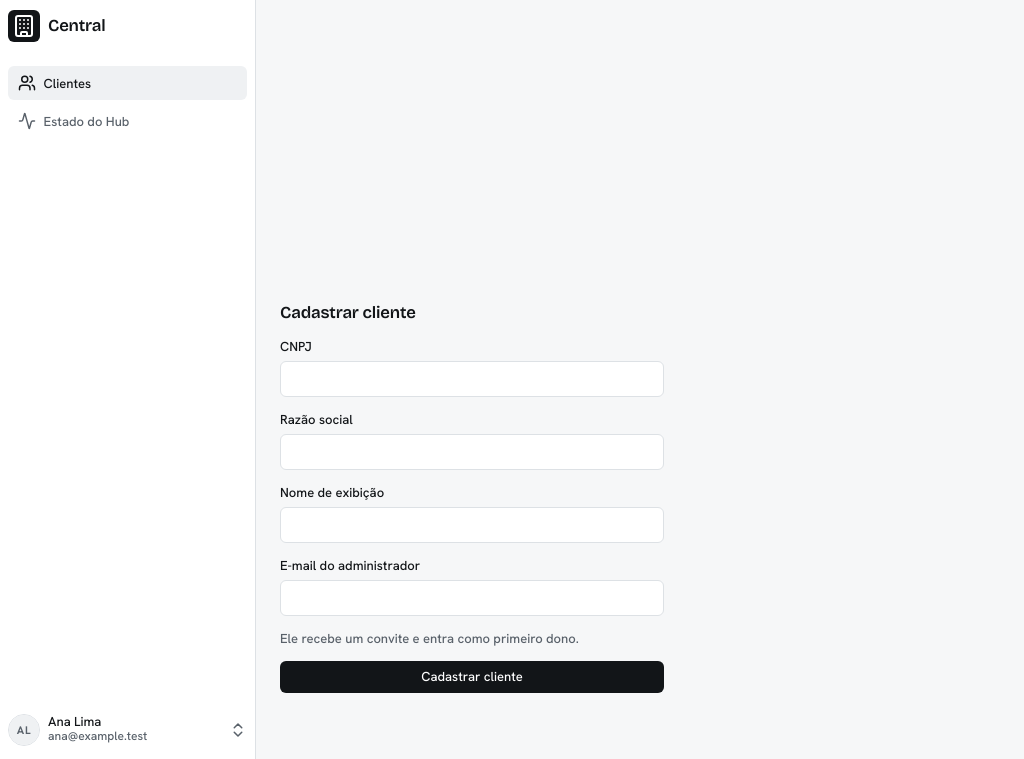
Test: 201: abre o cliente, com o CNPJ sem máscara em maiúsculas e uma chave de tentativa
(page scrolled)
Expected: the text "Ele recebe um convite e entra como primeiro dono." is shown, [280,630,579,647]
Type "12.abc.345/01de-35" into the field labelled "CNPJ" at (472, 379), box [280,361,664,397]
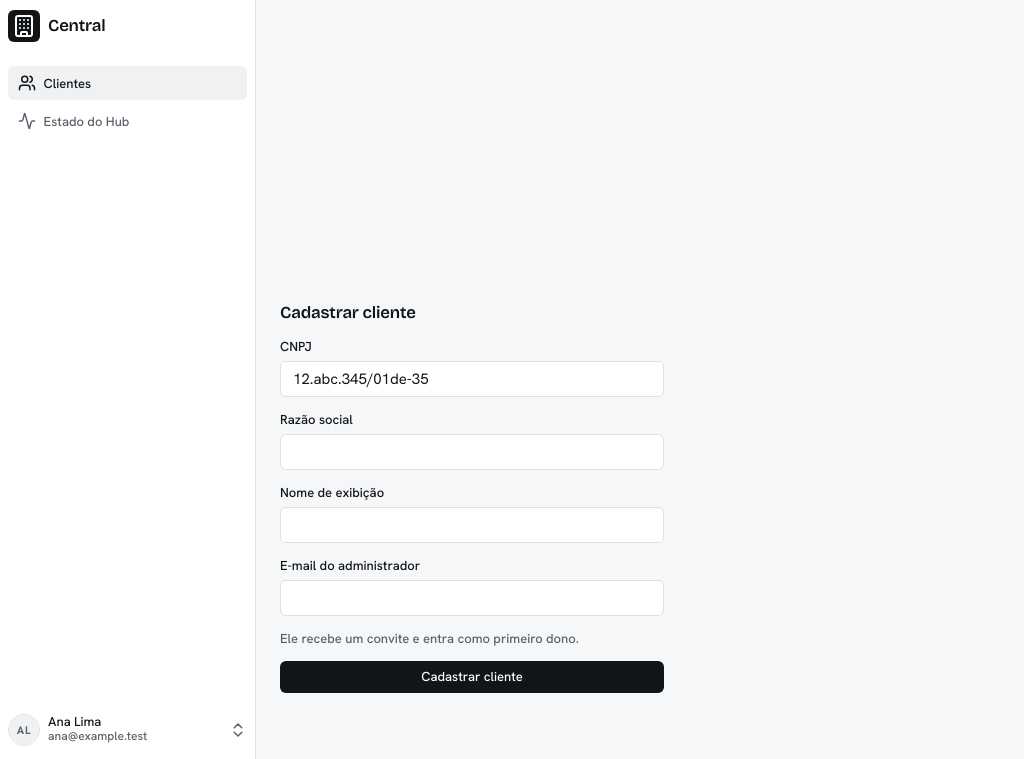
Type "Empresa Teste Ltda" into the field labelled "Razão social" at (472, 452), box [280,434,664,470]
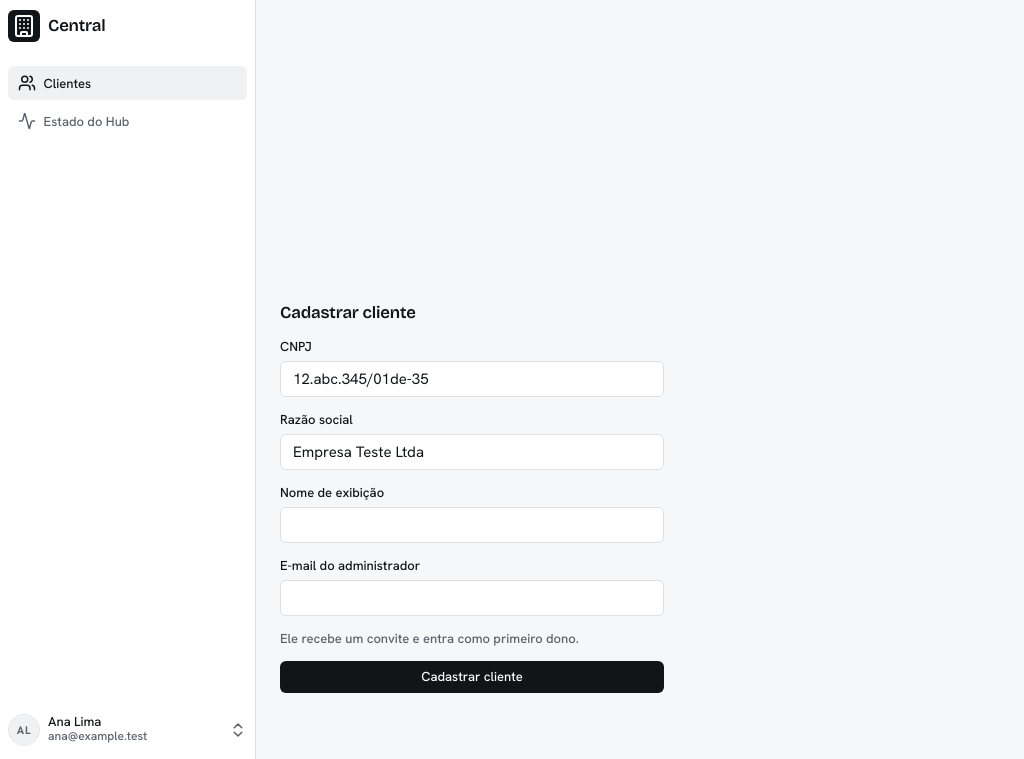
Type "Empresa Teste" into the field labelled "Nome de exibição" at (472, 525), box [280,507,664,543]
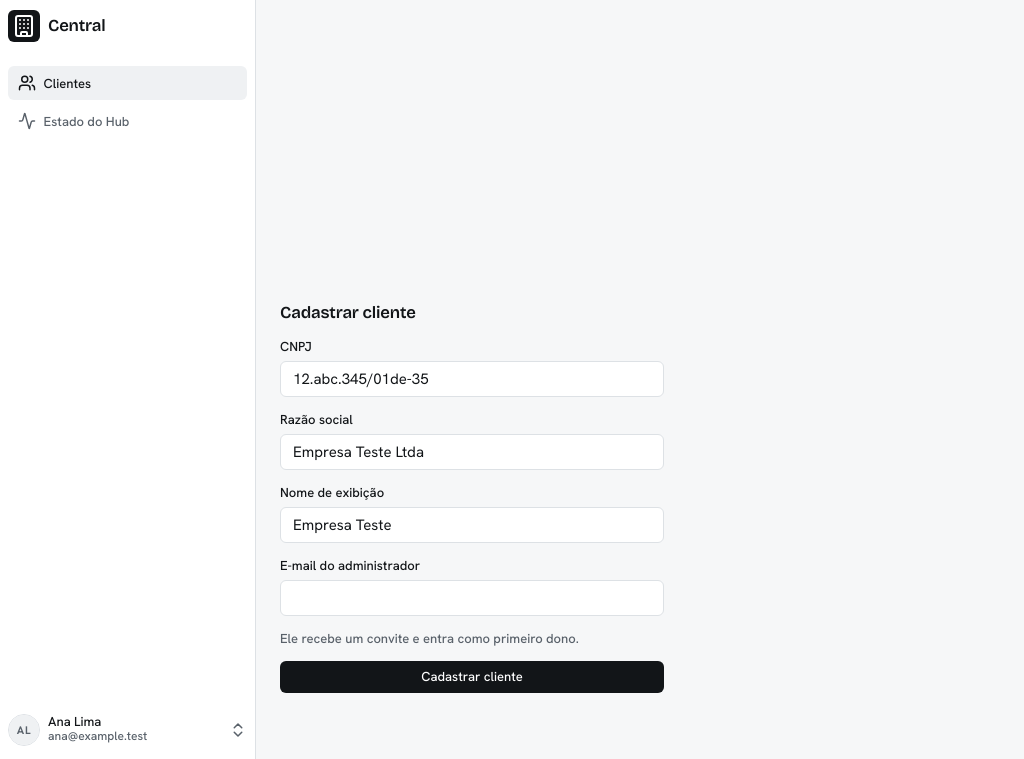
Type "davi@example.test" into the field labelled "E-mail do administrador" at (472, 598), box [280,580,664,616]
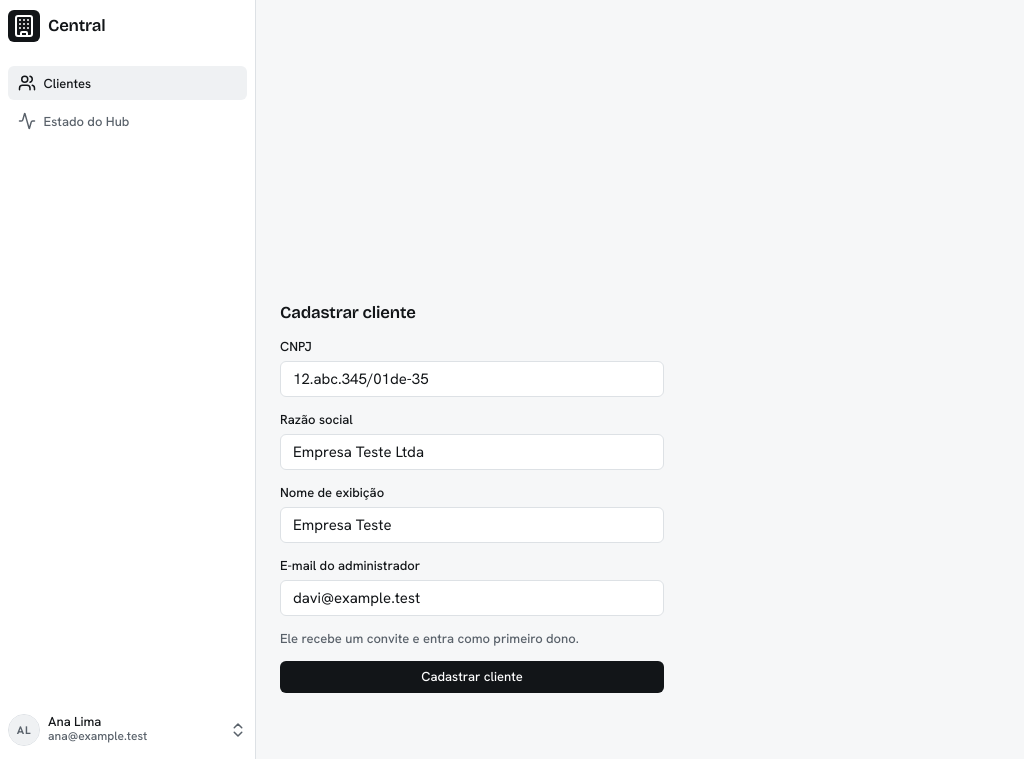
Click the button "Cadastrar cliente" at (472, 677), box [280,661,664,693]
(page scrolled)
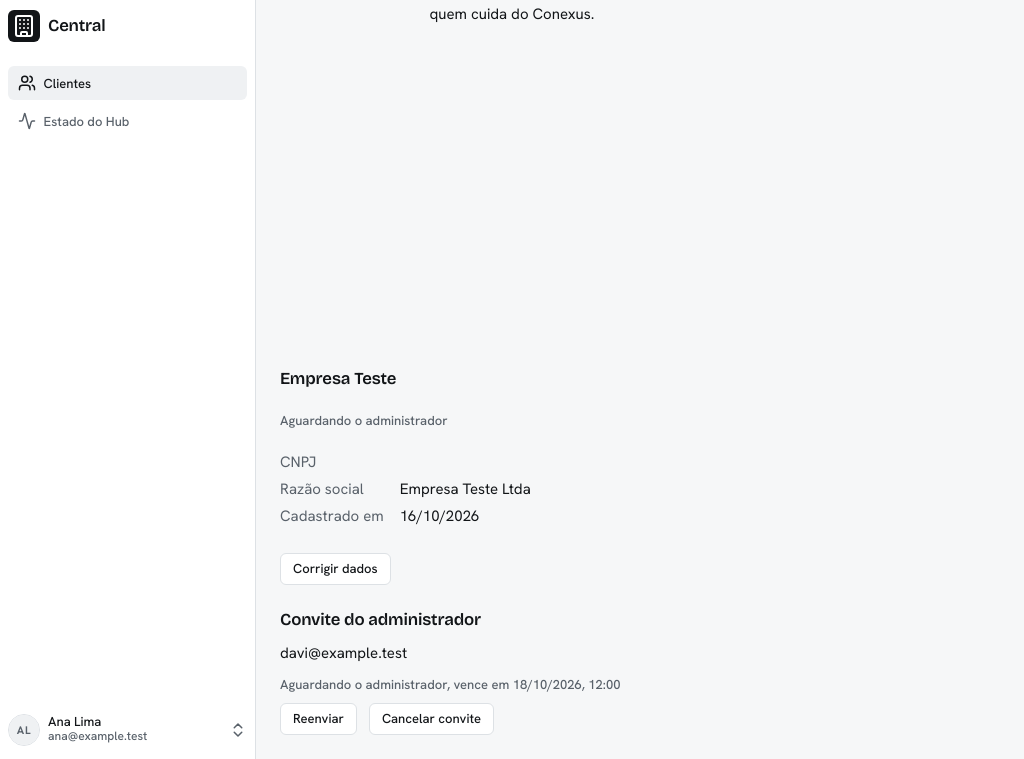
Expected: the heading "Empresa Teste" is shown, [280,368,396,389]
